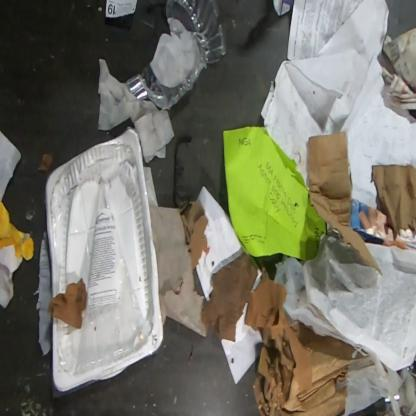cardboard: (243, 266, 371, 415), (307, 130, 382, 276)
rigid_plastic: (44, 125, 164, 393), (125, 0, 229, 112)
